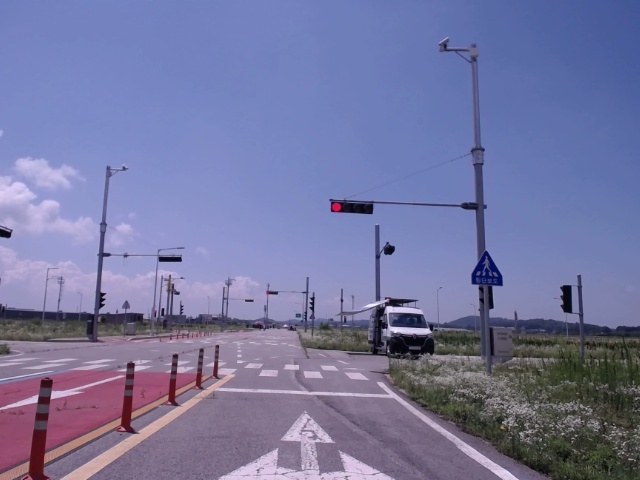red_4: (330, 202, 373, 214)
